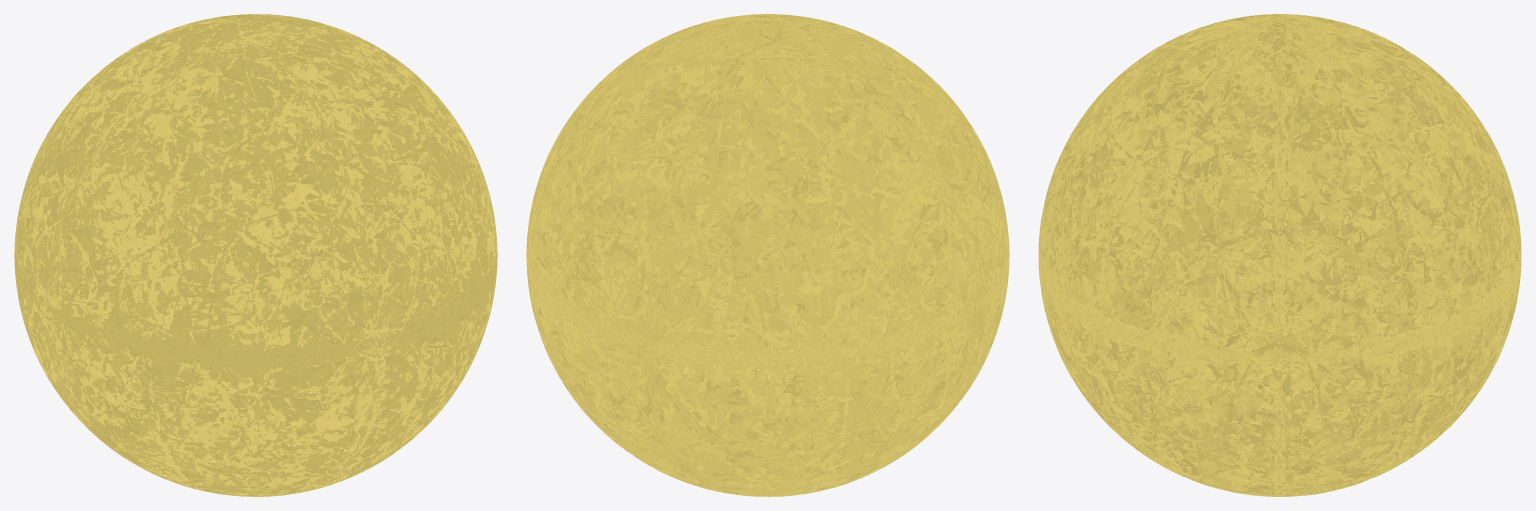
Rendered from grating_support.glb.
3 renders of one model, left to right at view 1: azimuth 30°, elevation 25°; view 2: azimuth 150°, elevation 25°; view 3: azimuth 270°, elevation 25°, orthographic.
Visible parts, largest first — view 1: grating_support; view 2: grating_support; view 3: grating_support.
Part boxes in pixels (left/top/right/bottom): grating_support: left=14, top=14, right=497, bottom=496; grating_support: left=526, top=14, right=1009, bottom=496; grating_support: left=1038, top=14, right=1521, bottom=496.
Bounding box in the file's own units: 2 × 2 × 2.
